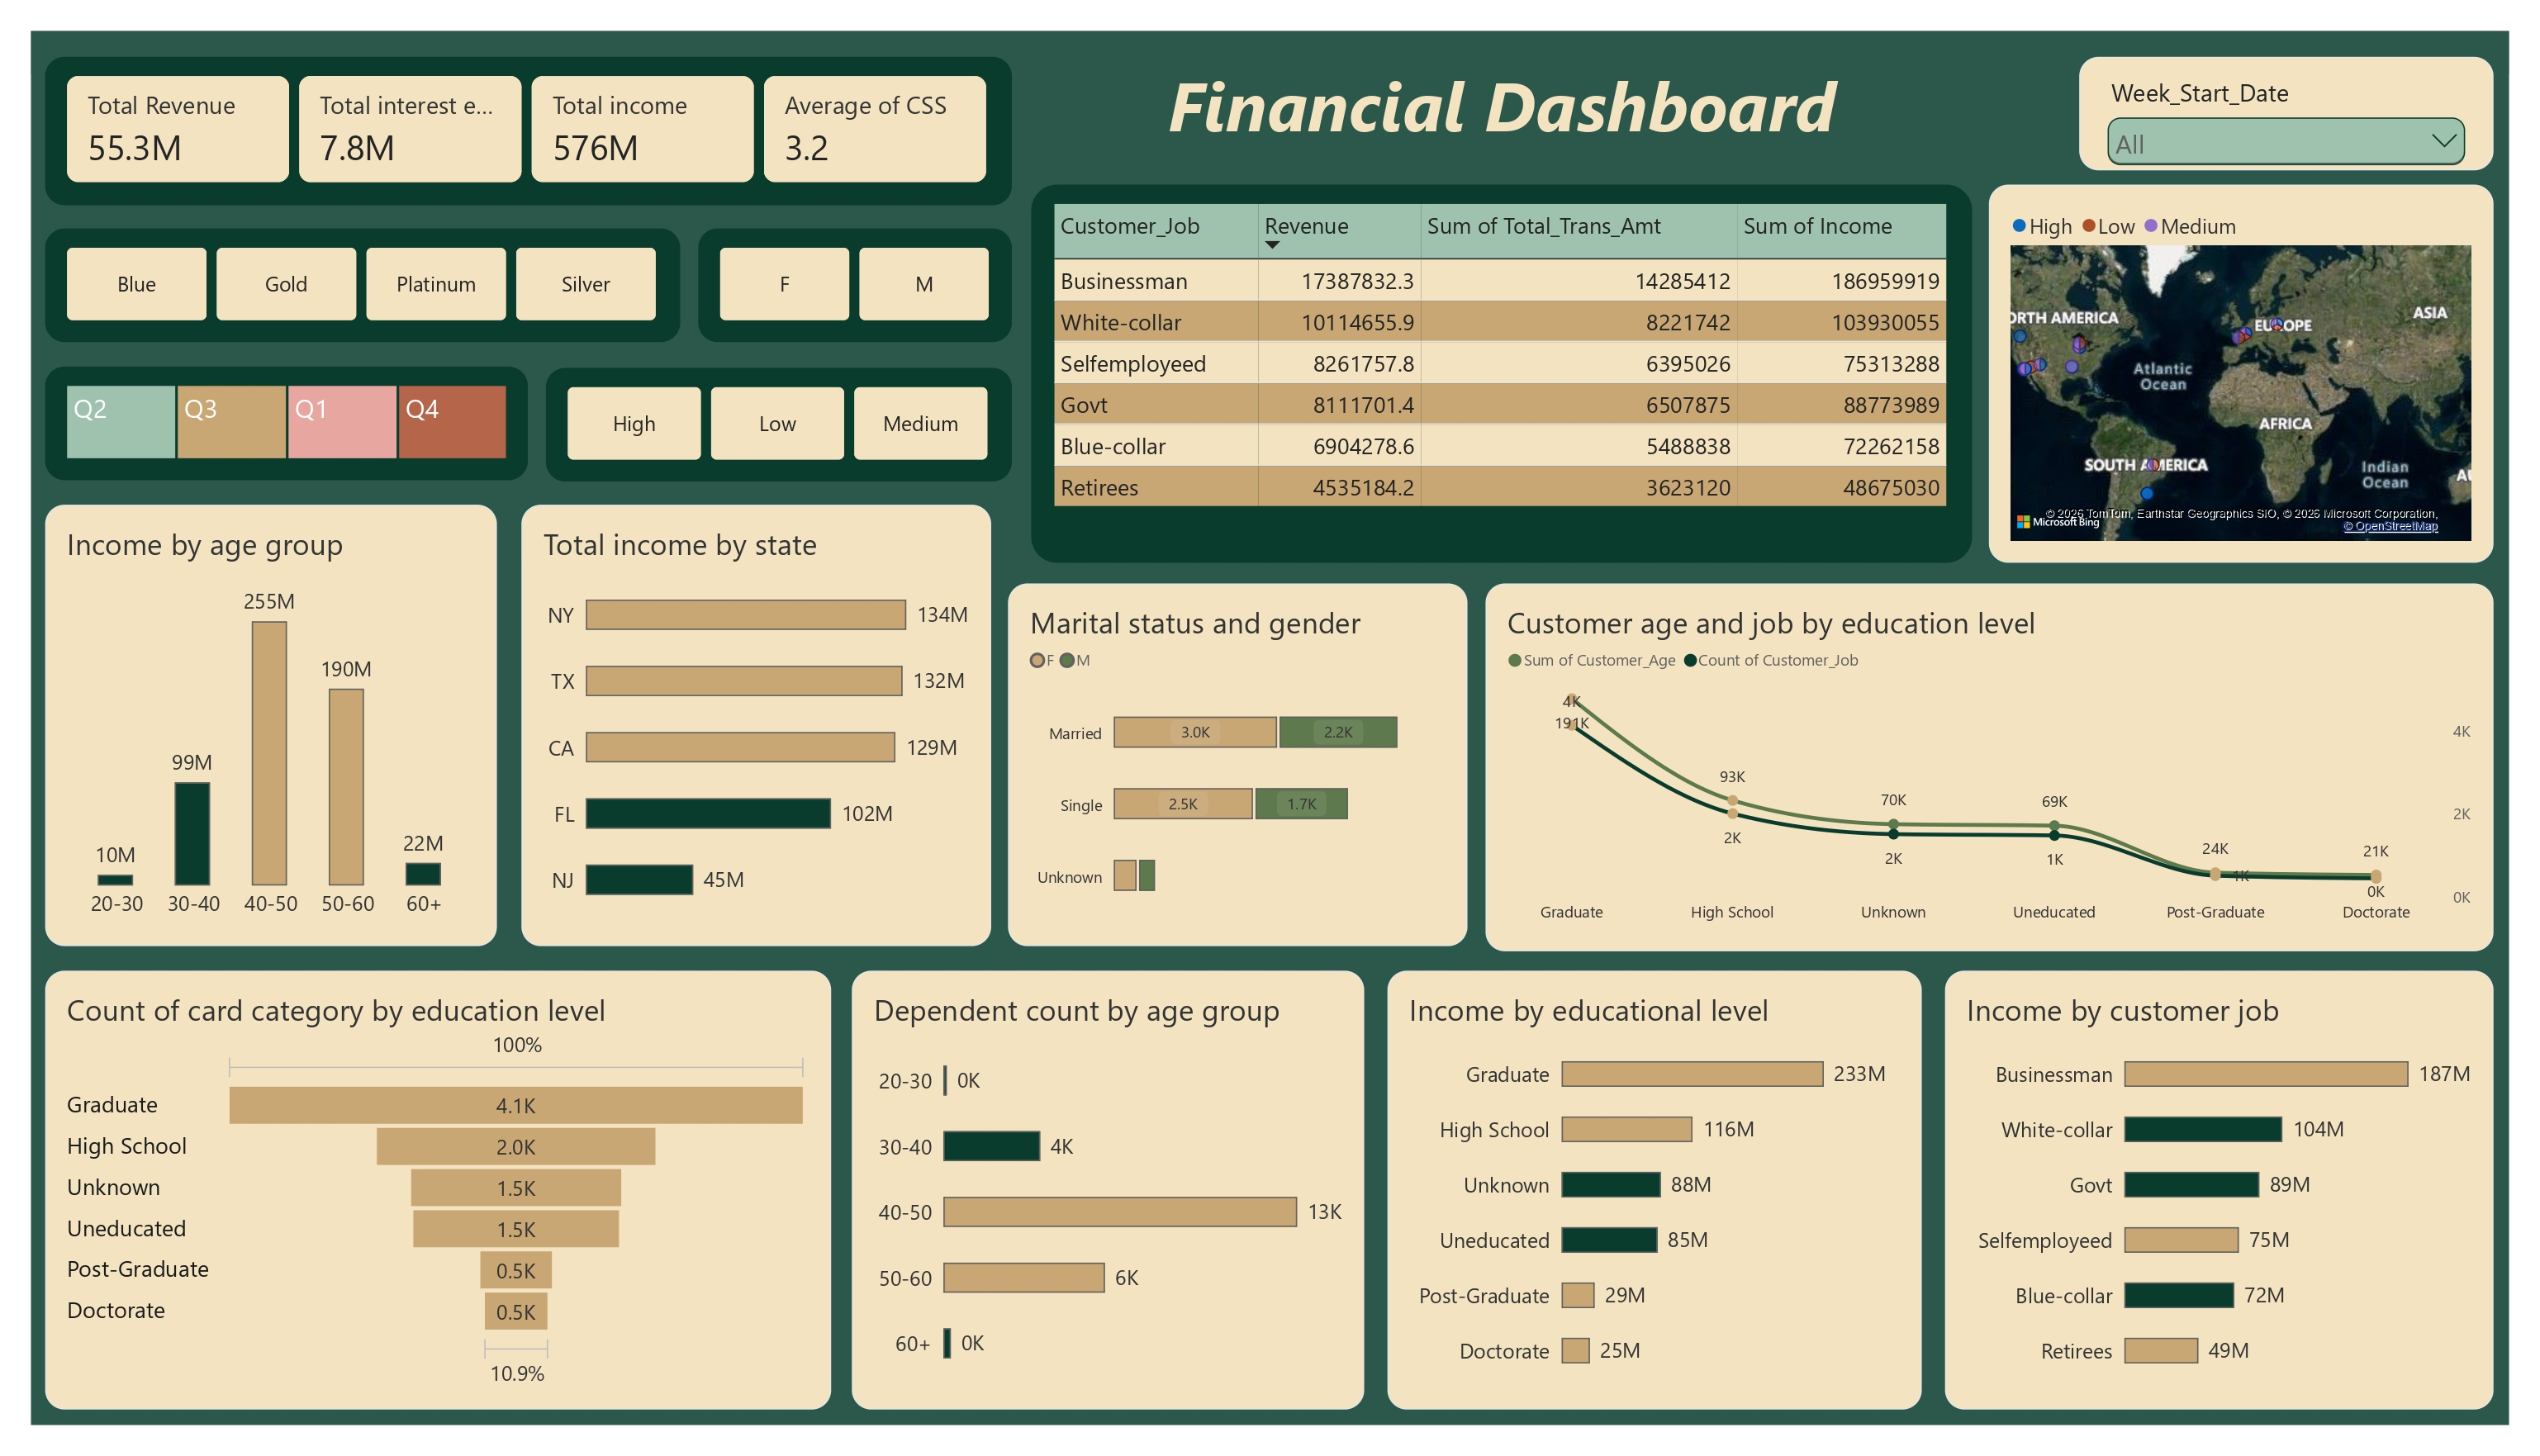

Layout of this report page (visuals, bound fields, positions):
{"tool":"powerbi","page":{"name":"Page 2","canvas":[1920,1080],"ordinal":1},"visuals":[{"type":"barChart","title":"Income by educational level","fields":{"Y":["Sum(customer.Income)"],"Category":["customer.Education_Level"]},"box":[1050.7,728,414.7,340],"z":0},{"type":"barChart","title":"Income by customer job","fields":{"Category":["customer.Customer_Job"],"Y":["Sum(customer.Income)"]},"box":[1482.7,728,425.3,340],"z":1000},{"type":"cardVisual","fields":{"Data":["Sum(credit_card.Revenue)","Sum(credit_card.Interest_Earned)","customer.Total income","Avg(customer.Cust_Satisfaction_Score)"]},"box":[10.7,20,749.3,114.7],"z":2000},{"type":"advancedSlicerVisual","fields":{"Values":["credit_card.Card_Category"]},"box":[10.7,153.3,492,88],"z":3000},{"type":"funnel","title":"Count of card category by education level","fields":{"Category":["customer.Education_Level"],"Y":["CountNonNull(credit_card.Card_Category)"]},"box":[10.7,728,609.3,340],"z":4000},{"type":"slicer","fields":{"Values":["credit_card.Week_Start_Date"]},"box":[1586.7,20,321.3,88],"z":5000},{"type":"tableEx","fields":{"Values":["customer.Customer_Job","Sum(credit_card.Revenue)","Sum(credit_card.Total_Trans_Amt)","Sum(customer.Income)"]},"box":[774.7,118.7,729.3,293.3],"z":6000},{"type":"treemap","fields":{"Values":["CountNonNull(credit_card.Client_Num)"],"Group":["credit_card.Qtr"]},"box":[10.7,260,374.7,88],"z":7000},{"type":"barChart","title":" Marital status and gender","fields":{"Category":["customer.Marital_Status"],"Y":["CountNonNull(customer.Client_Num)"],"Series":["customer.Gender"]},"box":[757.3,428,356,281.3],"z":8000},{"type":"columnChart","title":"Income by age group","fields":{"Category":["customer.AgeGroup"],"Y":["Sum(customer.Income)"]},"box":[10.7,366.7,350.7,342.7],"z":9000},{"type":"barChart","title":"Total income by state","fields":{"Category":["customer.state_cd"],"Y":["Sum(customer.Income)"]},"box":[380,366.7,364,342.7],"z":10000},{"type":"clusteredBarChart","title":"Dependent count by age group","fields":{"Category":["customer.AgeGroup"],"Y":["Sum(customer.Dependent_Count)"]},"box":[636,728,397.3,340],"z":11000},{"type":"advancedSlicerVisual","fields":{"Values":["customer.IncomeGroup"]},"box":[398.7,261.3,361.3,88],"z":12000},{"type":"advancedSlicerVisual","fields":{"Values":["customer.Gender"]},"box":[517.3,153.3,242.7,88],"z":13000},{"type":"map","fields":{"Category":["customer.Zipcode"],"Series":["customer.IncomeGroup"]},"box":[1517.3,118.7,390.7,293.3],"z":14000},{"type":"lineChart","title":"Customer age and  job by education level","fields":{"Y2":["CountNonNull(customer.Customer_Job)"],"Category":["customer.Education_Level"],"Y":["Sum(customer.Customer_Age)"]},"box":[1126.7,428,781.3,285.3],"z":15000},{"type":"textbox","box":[774.7,20,729.3,98.7],"z":16000}]}

Visuals, with their boxes in screenshot pixels (x1, y1, x2, y2):
"Income by educational level" barChart: [1384, 963, 1925, 1406]
"Income by customer job" barChart: [1948, 963, 2503, 1406]
cardVisual - Sum(credit_card.Revenue) x Sum(credit_card.Interest_Earned): [27, 40, 1004, 189]
advancedSlicerVisual - credit_card.Card_Category: [27, 213, 669, 328]
"Count of card category by education level" funnel: [27, 963, 822, 1406]
slicer - credit_card.Week_Start_Date: [2083, 40, 2503, 154]
tableEx - customer.Customer_Job x Sum(credit_card.Revenue): [1024, 168, 1975, 551]
treemap - CountNonNull(credit_card.Client_Num) x credit_card.Qtr: [27, 353, 516, 467]
" Marital status and gender" barChart: [1001, 571, 1465, 938]
"Income by age group" columnChart: [27, 491, 485, 938]
"Total income by state" barChart: [509, 491, 984, 938]
"Dependent count by age group" clusteredBarChart: [843, 963, 1361, 1406]
advancedSlicerVisual - customer.IncomeGroup: [534, 354, 1004, 469]
advancedSlicerVisual - customer.Gender: [688, 213, 1004, 328]
map - customer.Zipcode x customer.IncomeGroup: [1992, 168, 2503, 551]
"Customer age and  job by education level" lineChart: [1484, 571, 2503, 944]
textbox: [1024, 40, 1975, 168]
